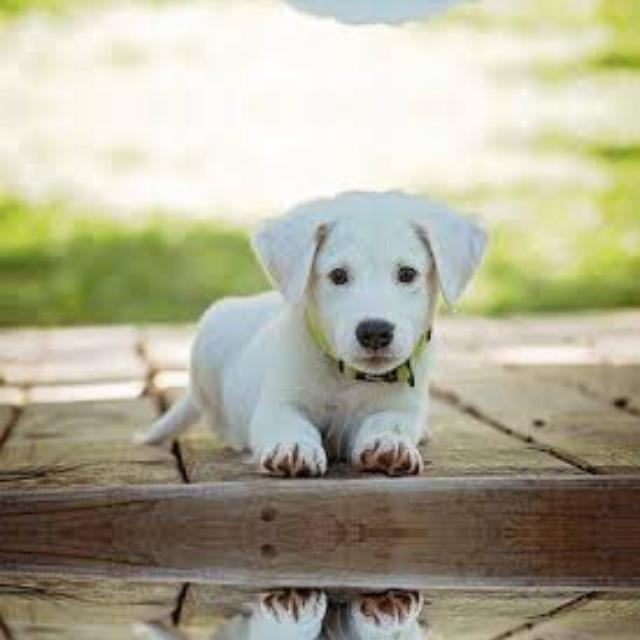dog: (168, 180, 504, 504), (168, 560, 503, 640), (168, 0, 503, 34)
